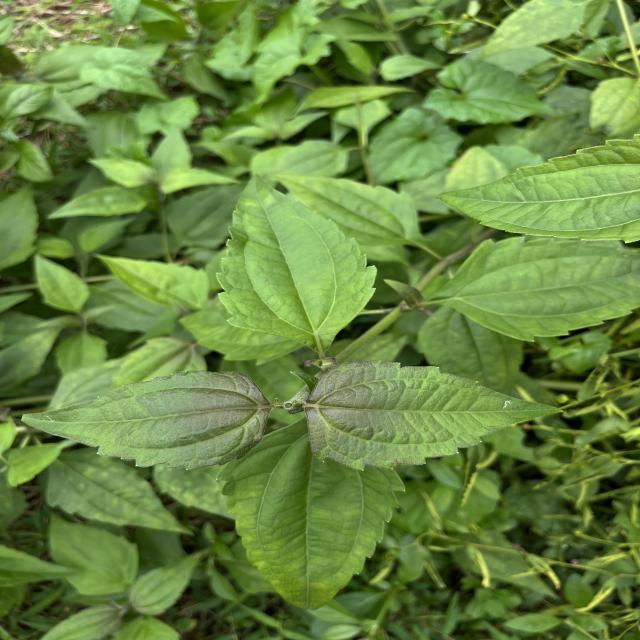Chromolaena odorata: (300, 356, 568, 475), (16, 366, 275, 473)
